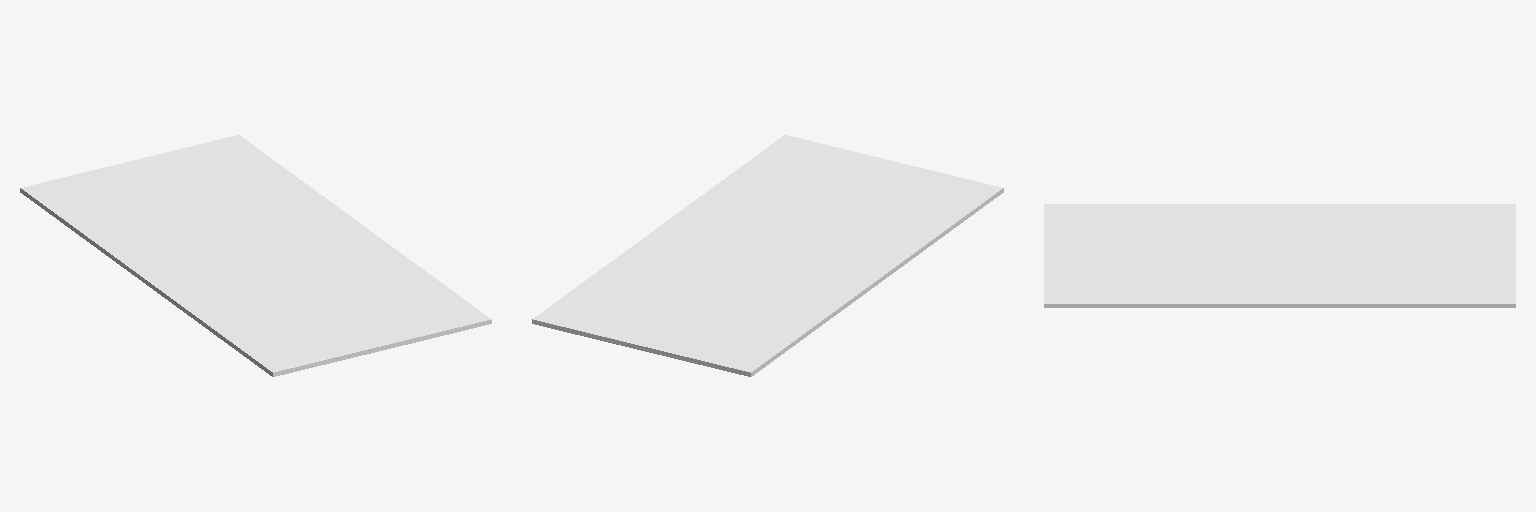
URDF robot description (table.urdf):
<?xml version="1.0" ?>
<robot name="table.urdf">
  <material name="white">
    <color rgba="1 1 1 1"/>
  </material>
  <link name="baseLink">
    <contact>
      <lateral_friction value="1.0"/>
    </contact>
    <inertial>
      <origin rpy="0 0 0" xyz="0 0 0"/>
       <mass value=".0"/>
       <inertia ixx="1" ixy="0" ixz="0" iyy="1" iyz="0" izz="1"/>
    </inertial>
    <visual>
      <origin rpy="0 0 0" xyz="0 0 -0.005"/>
      <geometry>
        <mesh filename="table.obj" scale="0.5 1 0.01"/>
      </geometry>
	  <material name="white"/>
    </visual>
    <collision>
      <origin rpy="0 0 0" xyz="0 0 -0.005"/>
      <geometry>
        <box size="4.0 4.0 0.01"/>
      </geometry>
    </collision>
  </link>
</robot>

--- Render facts (derived) ---
Views: 3 orthographic renders of the robot side by side, from view 1: azimuth 30°, elevation 25°; view 2: azimuth 150°, elevation 25°; view 3: azimuth 270°, elevation 25°.
Model table.urdf with 1 links and 0 joints (none), rooted at baseLink, posed every joint at zero.
Links seen in each view (by area): view 1: baseLink; view 2: baseLink; view 3: baseLink.
Boxes of the visible links, x1,y1,x2,y2 form: baseLink: (20,135,491,376); baseLink: (532,135,1003,376); baseLink: (1044,204,1515,307).
Size in the robot's own frame: 0.5 by 1 by 0.01 metres.
Meshes: 1 distinct files referenced, 1 mesh visuals loaded (1 OBJ).
